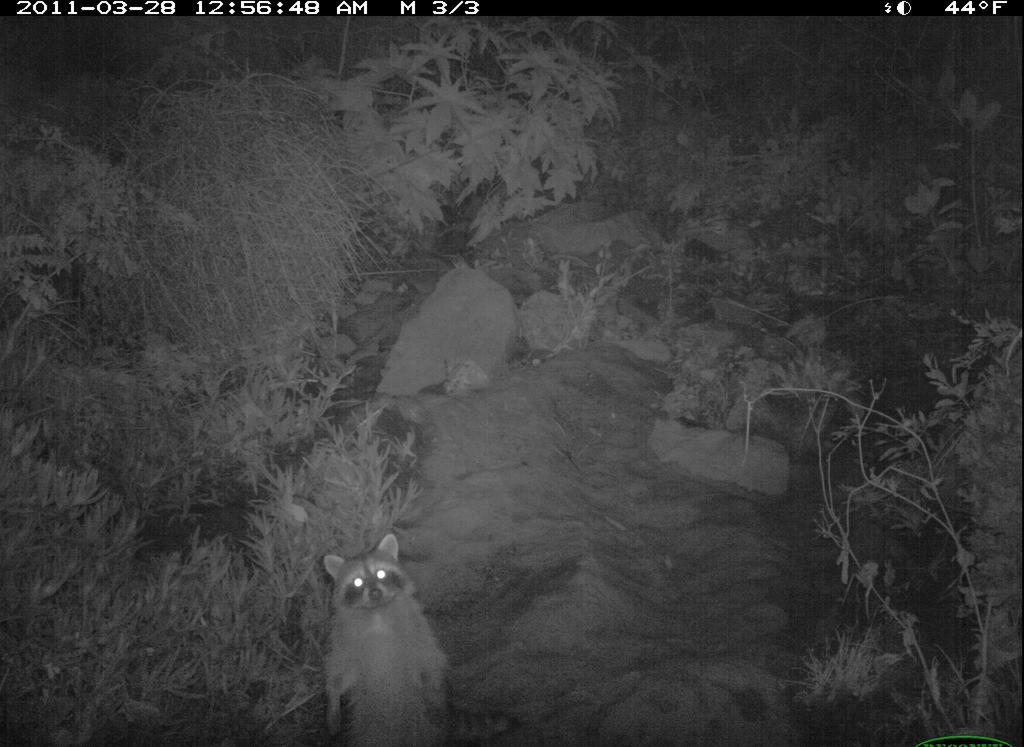raccoon: (305, 524, 457, 740)
